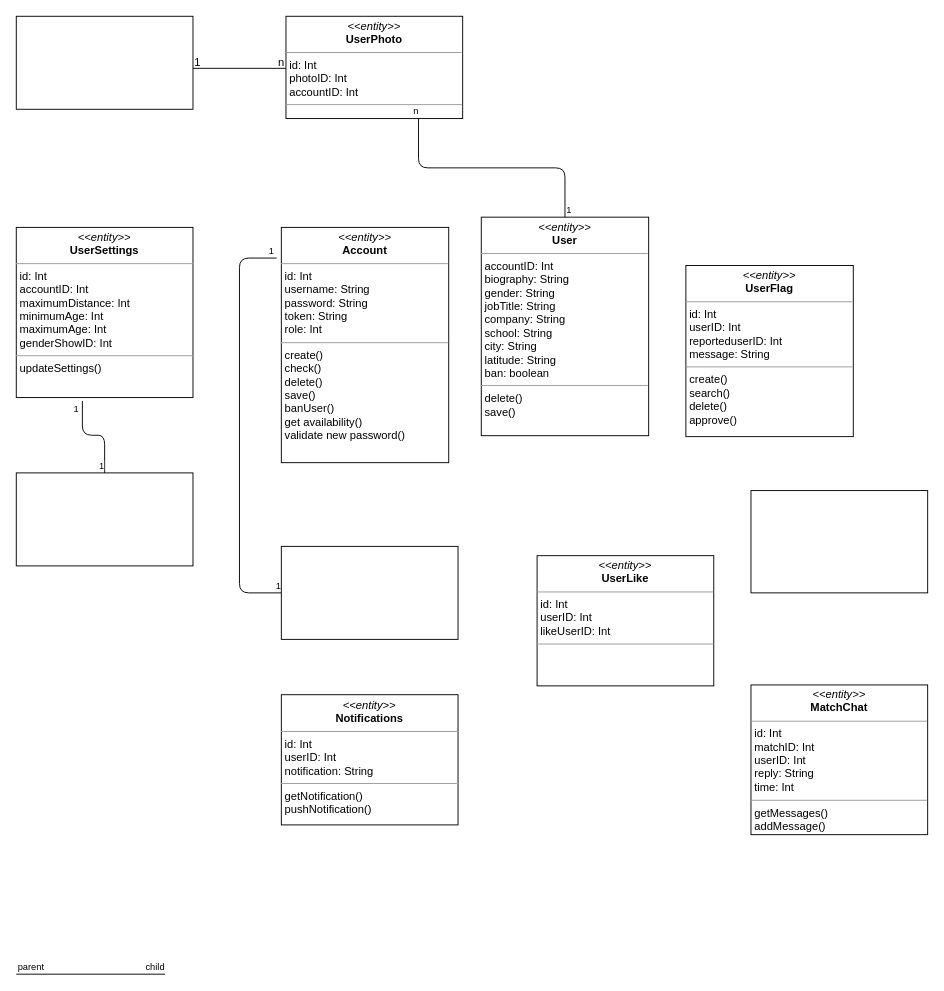
Image size: 944x991. Some labels were removed from this diagram. The shapes that lost their labels are listed below. From the top down, each one's centre as x and y in pixels, then its label:
At pixel 104 62: "<<entity>> Photo id: Int link: String".
At pixel 104 519: "<<entity>> SettingsGender id: Int name: String".
At pixel 839 541: "<<entity>> UserMatch id: Int userID: Int matchUserID: Int".
At pixel 369 592: "<<entity>> AccountRole id: Int name: String".
